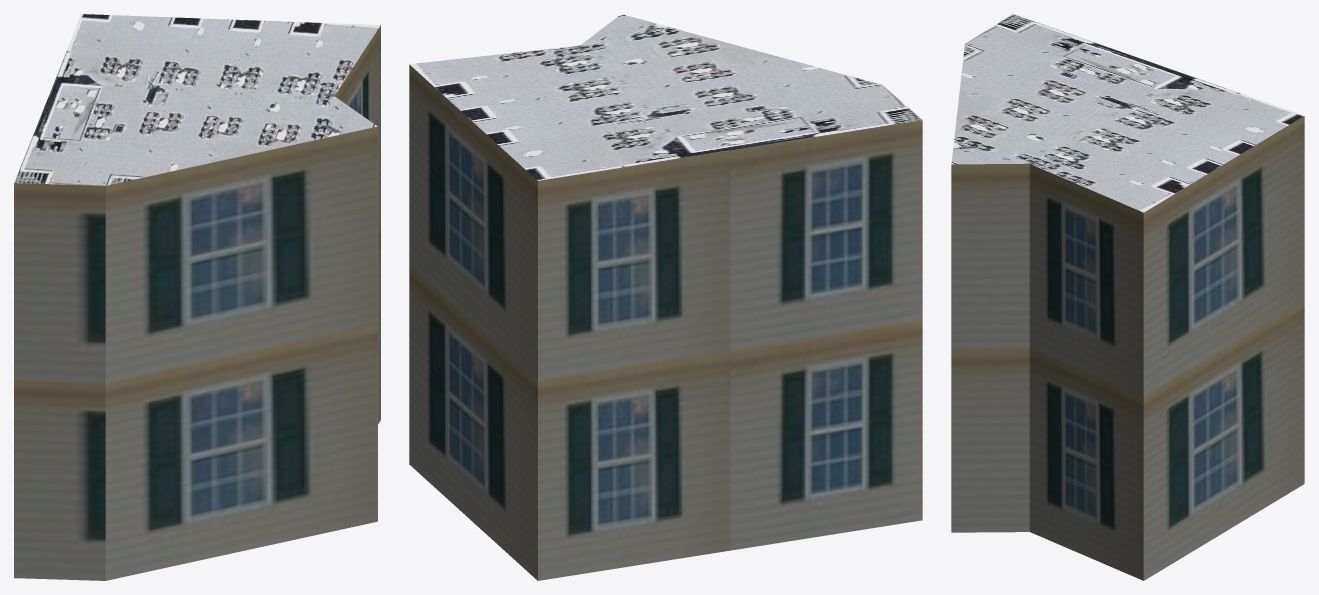
Rendered from ResTex__4746.fbx.
3 renders of one model, left to right at view 1: azimuth 30°, elevation 25°; view 2: azimuth 150°, elevation 25°; view 3: azimuth 270°, elevation 25°, orthographic. The views are drawn at different scales.
Visible parts, largest first — view 1: CityEngineMaterial_7_m, CityEngineMaterial_2_m; view 2: CityEngineMaterial_7_m, CityEngineMaterial_2_m; view 3: CityEngineMaterial_7_m, CityEngineMaterial_2_m.
Part boxes in pixels (x1=…): CityEngineMaterial_7_m: x1=14, y1=25, x2=380, y2=580; CityEngineMaterial_2_m: x1=14, y1=14, x2=380, y2=185; CityEngineMaterial_7_m: x1=409, y1=64, x2=922, y2=580; CityEngineMaterial_2_m: x1=410, y1=14, x2=922, y2=180; CityEngineMaterial_7_m: x1=951, y1=116, x2=1304, y2=580; CityEngineMaterial_2_m: x1=951, y1=14, x2=1303, y2=212.
Bounding box in the file's own units: 6.94 × 6 × 5.22.
Materials: 2 (2 with a texture image).
